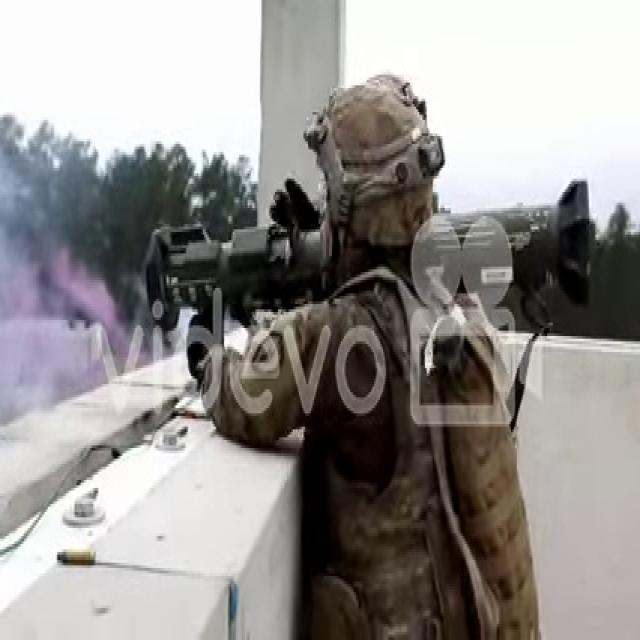bazooka: (146, 177, 599, 349)
